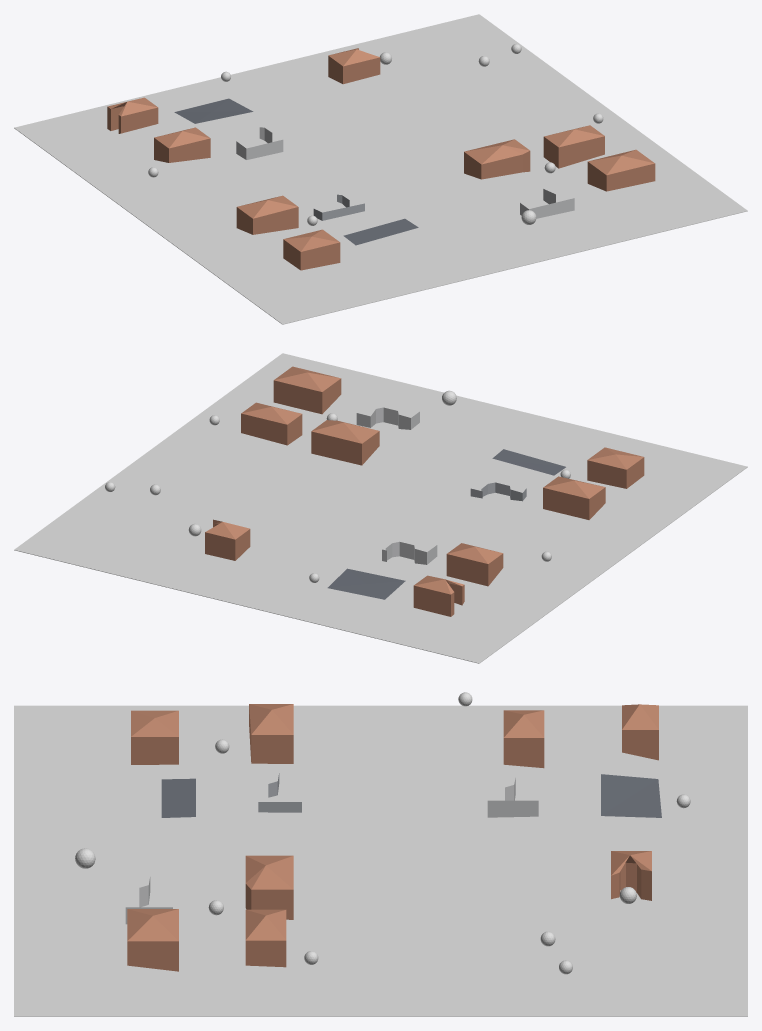
File: scene_44a2a813-19d1-425f-aea7-4db845452d2d.glb
3 renders of one model, top to bottom at view 1: azimuth 30°, elevation 25°; view 2: azimuth 150°, elevation 25°; view 3: azimuth 270°, elevation 25°, orthographic. The views are drawn at different scales.
Visible parts, largest first — view 1: Ground_Base, B010, B007, B008, B006, Road_Corridors, B009, B003, B002, B001, B004, B011 (+1 smaller); view 2: Ground_Base, B010, B007, Road_Corridors, B006, B008, B003, B009, B001, B002, B011, B004 (+1 smaller); view 3: Ground_Base, Road_Corridors, B010, B007, B006, B009, B008, B003, B001, B002, B004, B005.
Boxes of the visible parts, bbox=[...] form: Ground_Base: bbox=[14, 14, 747, 324]; B010: bbox=[587, 149, 655, 191]; B007: bbox=[464, 139, 530, 179]; B008: bbox=[543, 125, 604, 168]; B006: bbox=[236, 195, 298, 234]; Road_Corridors: bbox=[174, 98, 418, 245]; B009: bbox=[283, 229, 340, 270]; B003: bbox=[154, 127, 210, 162]; B002: bbox=[328, 48, 380, 84]; B001: bbox=[107, 97, 158, 133]; B004: bbox=[236, 127, 283, 159]; B011: bbox=[520, 189, 574, 218]; Ground_Base: bbox=[14, 353, 747, 663]; B010: bbox=[273, 366, 341, 414]; B007: bbox=[311, 420, 379, 465]; Road_Corridors: bbox=[327, 449, 565, 599]; B006: bbox=[543, 476, 605, 519]; B008: bbox=[241, 402, 302, 445]; B003: bbox=[446, 543, 503, 586]; B009: bbox=[587, 447, 644, 488]; B001: bbox=[413, 575, 464, 616]; B002: bbox=[205, 519, 250, 560]; B011: bbox=[356, 407, 419, 429]; B004: bbox=[382, 541, 437, 564]; Ground_Base: bbox=[14, 705, 747, 1016]; Road_Corridors: bbox=[161, 774, 661, 817]; B010: bbox=[127, 909, 178, 971]; B007: bbox=[245, 855, 293, 919]; B006: bbox=[249, 704, 293, 763]; B009: bbox=[131, 710, 178, 764]; B008: bbox=[245, 909, 286, 967]; B003: bbox=[503, 710, 544, 768]; B001: bbox=[622, 704, 658, 760]; B002: bbox=[611, 851, 651, 900]; B004: bbox=[487, 778, 538, 817]; B005: bbox=[258, 773, 301, 812].
Size of the model in its own units: 410 by 31.57 by 410.
